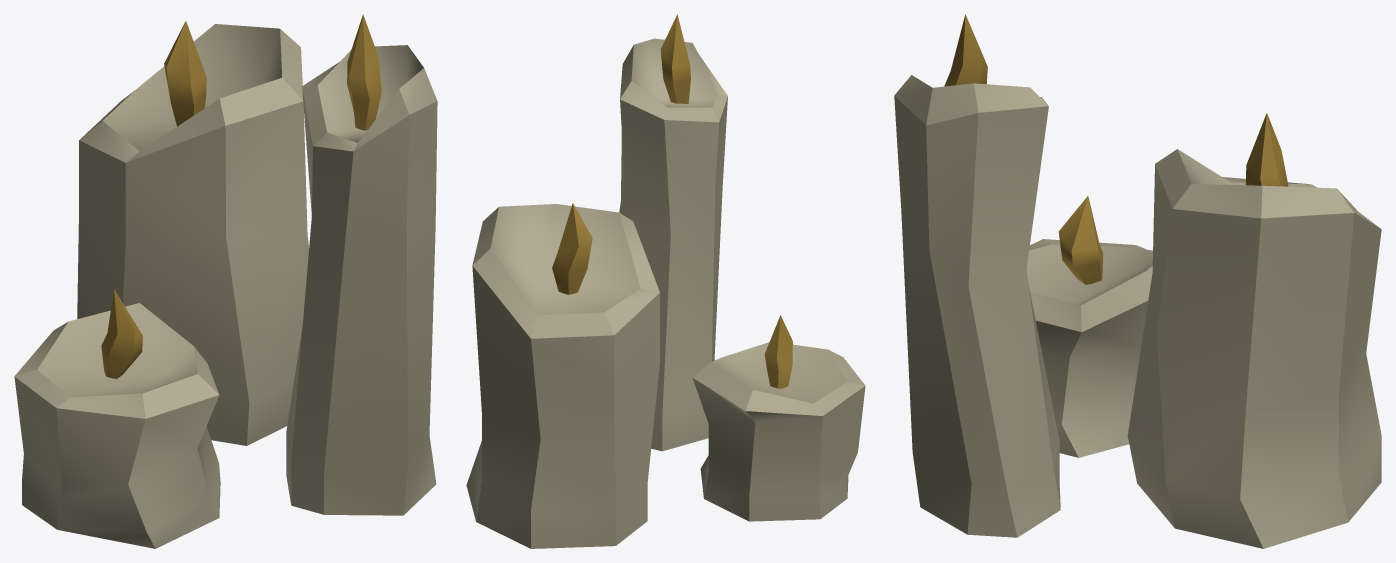
Rendered from Candles.fbx.
The picture shows the model from 3 angles, left to right: view 1: azimuth 30°, elevation 25°; view 2: azimuth 150°, elevation 25°; view 3: azimuth 270°, elevation 25°; orthographic projection. The views are drawn at different scales.
Visible parts, largest first — view 1: candles; view 2: candles; view 3: candles.
Boxes of the visible parts, x1,y1,x2,y2 form: candles: (14, 14, 437, 548); candles: (466, 14, 865, 548); candles: (894, 14, 1381, 548).
Size of the model in its own units: 3.67 by 4.61 by 4.19.
